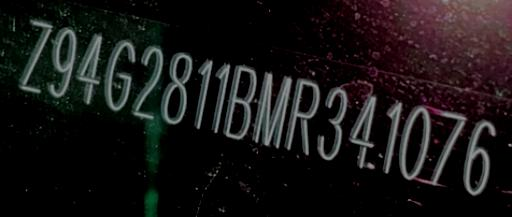letter: (250, 67, 294, 152), (427, 104, 467, 189), (461, 114, 499, 200), (282, 74, 320, 159), (15, 15, 53, 97), (396, 103, 434, 184), (128, 40, 164, 123), (159, 47, 195, 128), (102, 35, 138, 114), (222, 63, 258, 142), (346, 89, 380, 170), (314, 84, 348, 163), (46, 23, 78, 101), (74, 30, 104, 105), (381, 98, 405, 177), (191, 54, 213, 135), (210, 58, 232, 135)
